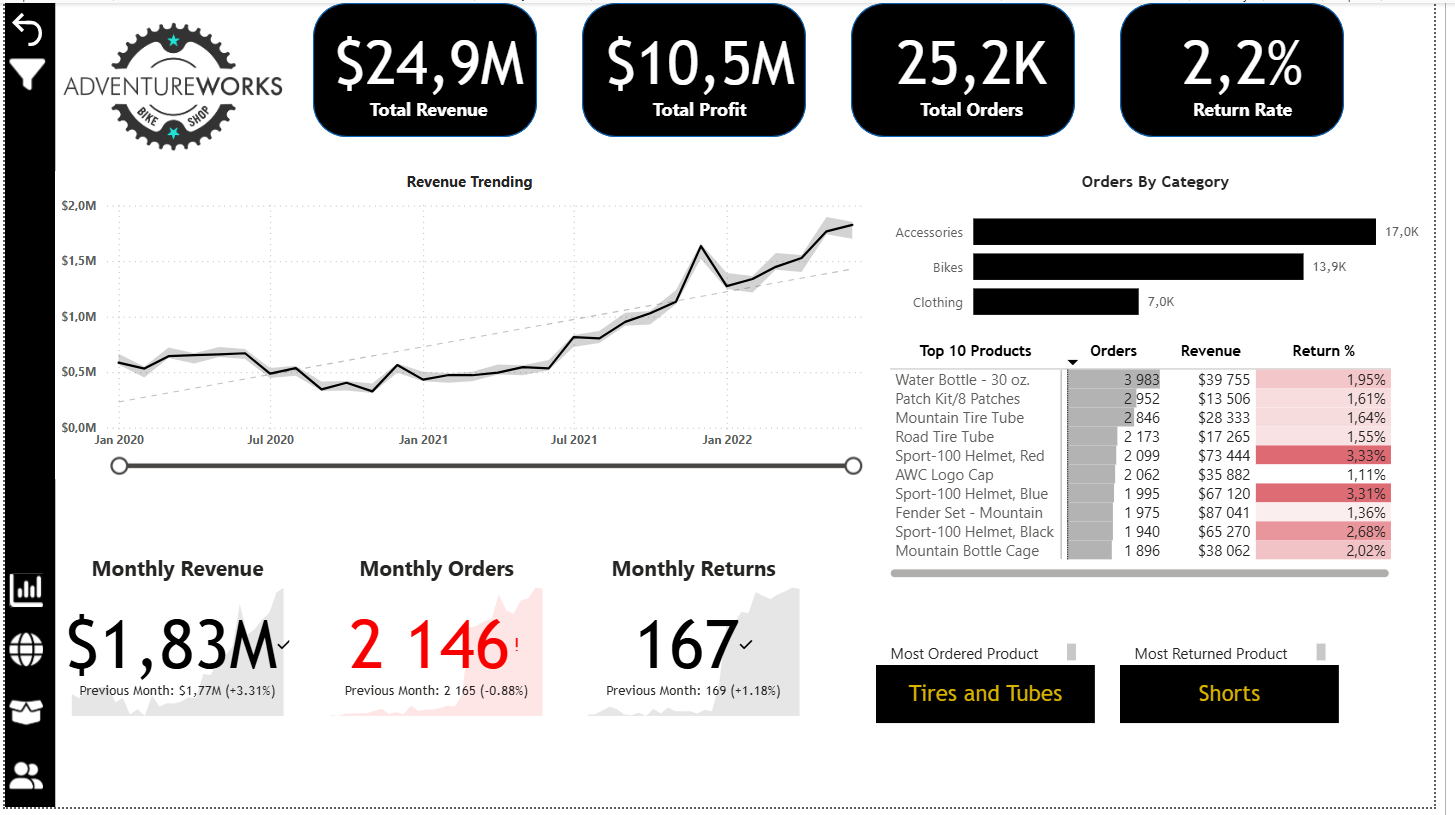

The dashboard page shown, as its layout file describes it:
{"tool":"powerbi","page":{"name":"Exec DashBoard","canvas":[1280,720],"ordinal":0},"visuals":[{"type":"shape","title":"Nav Bar","box":[0,0,45,720],"z":0},{"type":"card","fields":{"Values":["Measure Table.Total Revenue"]},"box":[254.3,0,250,120],"z":0,"group":"g2"},{"type":"shape","box":[275.8,0,200.6,120],"z":0,"group":"g1"},{"type":"actionButton","box":[0,557.9,44.8,43],"z":0,"group":"g3"},{"type":"image","title":"AW Logo","box":[26,0,249.9,150.4],"z":1000},{"type":"card","fields":{"Values":["Measure Table.Total Profit"]},"box":[497.2,0,250,120],"z":1000,"group":"g2"},{"type":"shape","box":[516.7,0,200.6,120],"z":1000,"group":"g1"},{"type":"actionButton","box":[0,505.1,44.8,43],"z":1000,"group":"g3"},{"type":"group","id":"g1","title":"Cards","box":[275.8,0,923.3,120],"z":2000},{"type":"card","fields":{"Values":["Measure Table.Total Orders"]},"box":[740.2,0,250,120],"z":2000,"group":"g2"},{"type":"shape","box":[757.6,0,200.6,120],"z":2000,"group":"g1"},{"type":"actionButton","box":[0,614.4,44.8,43],"z":2000,"group":"g3"},{"type":"group","id":"g2","title":"KPI Values","box":[254.3,0,979,120],"z":3000},{"type":"card","fields":{"Values":["Measure Table.Return Rate"]},"box":[983.3,0,250,120],"z":3000,"group":"g2"},{"type":"shape","box":[998.5,0,200.6,120],"z":3000,"group":"g1"},{"type":"actionButton","box":[0,670.8,44.8,43],"z":3000,"group":"g3"},{"type":"lineChart","title":"Revenue Trending","fields":{"Y":["Measure Table.Total Revenue"],"Category":["Calendar Lookup.Start of Month"]},"box":[44.8,150.4,742.4,274.9],"z":4000},{"type":"kpi","title":"Monthly Revenue","fields":{"Indicator":["Measure Table.Total Revenue"],"TrendLine":["Calendar Lookup.Start of Month"],"Goal":["Measure Table.Previous Month Revenue"]},"box":[54.6,493.4,199.7,150.4],"z":5000},{"type":"kpi","title":"Monthly Orders","fields":{"TrendLine":["Calendar Lookup.Start of Month"],"Indicator":["Measure Table.Total Orders"],"Goal":["Measure Table.Previous Month Orders"]},"box":[286.6,493.4,199.7,150.4],"z":6000},{"type":"kpi","title":"Monthly Returns","fields":{"TrendLine":["Calendar Lookup.Start of Month"],"Goal":["Measure Table.Previous Month Returns"],"Indicator":["Measure Table.Total Returns"]},"box":[516.7,493.4,199.7,150.4],"z":7000},{"type":"clusteredBarChart","title":"Orders By Category","fields":{"Category":["Product Category Lookup.CategoryName"],"Y":["Measure Table.Total Orders"]},"box":[787.2,150.4,486.3,147.8],"z":8000},{"type":"pivotTable","fields":{"Rows":["Product Lookup.ProductName"],"Values":["Measure Table.Total Orders","Measure Table.Total Revenue","Measure Table.Return Rate"]},"box":[787.2,298.2,458.5,222.1],"z":9000},{"type":"card","fields":{"Values":["Min(Product Subcategory Lookup.SubcategoryName)"]},"box":[780,592.8,196.1,51.9],"z":10000},{"type":"textbox","box":[788.1,568.7,176.4,30.4],"z":11000},{"type":"textbox","box":[1006.6,568.7,180.9,30.4],"z":12000},{"type":"card","fields":{"Values":["Min(Product Subcategory Lookup.SubcategoryName)"]},"box":[998.5,592.8,196.1,51.9],"z":13000},{"type":"actionButton","box":[0,3.6,44.8,40.3],"z":14000},{"type":"group","id":"g3","title":"Buttons","box":[0,505.1,44.8,208.7],"z":15000},{"type":"actionButton","box":[0,43.9,44.8,40.3],"z":16000}]}

Visuals, with their boxes on the page's 1280x720 design canvas (x1, y1, x2, y2). These are canvas units, not pixel positions in the 1455x815 screenshot, which may show the page scaled, cropped or inside an application window:
"Nav Bar" shape: [0,0,45,720]
card - Measure Table.Total Revenue: [254,0,504,120]
shape: [276,0,476,120]
actionButton: [0,558,45,601]
"AW Logo" image: [26,0,276,150]
card - Measure Table.Total Profit: [497,0,747,120]
shape: [517,0,717,120]
actionButton: [0,505,45,548]
"Cards" group: [276,0,1199,120]
card - Measure Table.Total Orders: [740,0,990,120]
shape: [758,0,958,120]
actionButton: [0,614,45,657]
"KPI Values" group: [254,0,1233,120]
card - Measure Table.Return Rate: [983,0,1233,120]
shape: [998,0,1199,120]
actionButton: [0,671,45,714]
"Revenue Trending" lineChart: [45,150,787,425]
"Monthly Revenue" kpi: [55,493,254,644]
"Monthly Orders" kpi: [287,493,486,644]
"Monthly Returns" kpi: [517,493,716,644]
"Orders By Category" clusteredBarChart: [787,150,1274,298]
pivotTable - Product Lookup.ProductName x Measure Table.Total Orders: [787,298,1246,520]
card - Min(Product Subcategory Lookup.SubcategoryName): [780,593,976,645]
textbox: [788,569,964,599]
textbox: [1007,569,1188,599]
card - Min(Product Subcategory Lookup.SubcategoryName): [998,593,1195,645]
actionButton: [0,4,45,44]
"Buttons" group: [0,505,45,714]
actionButton: [0,44,45,84]
